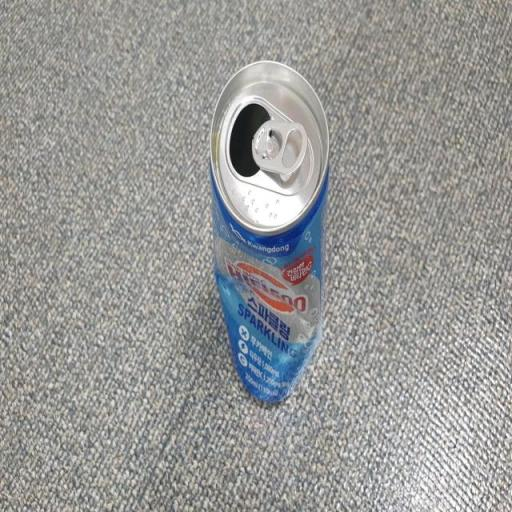metal: (202, 40, 338, 422)
